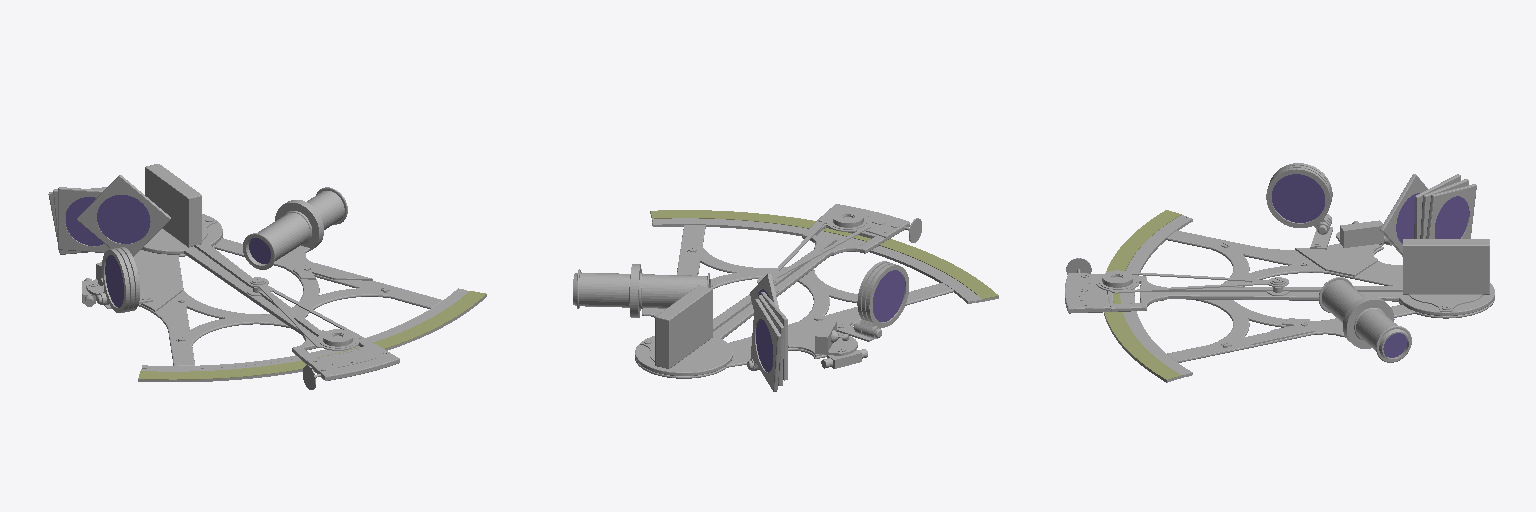
Rendered from sextant.obj.
The picture shows the model from 3 angles: view 1: azimuth 30°, elevation 25°; view 2: azimuth 150°, elevation 25°; view 3: azimuth 270°, elevation 25°; orthographic projection.
Parts seen in each view (by area): view 1: eness3d_02, eness3d_03, eness3d_01, eness3d_05, Object01, eness3d_12, eness3d_13, eness3d_06, Object04, eness3d_07, Object03, eness3d_04; view 2: eness3d_03, eness3d_02, eness3d_01, eness3d_05, Object03, eness3d_07, eness3d_13, eness3d_06, Object07; view 3: eness3d_02, eness3d_03, eness3d_01, eness3d_05, eness3d_13, Object10, eness3d_06, Object07, eness3d_07, eness3d_12, Object08.
Part boxes in pixels (x1,y1,x2,y2): eness3d_02: (48,187,442,365); eness3d_03: (84,164,463,389); eness3d_01: (141,214,373,363); eness3d_05: (138,291,486,379); Object01: (97,195,150,243); eness3d_12: (77,175,170,256); eness3d_13: (139,263,372,311); eness3d_06: (307,344,399,380); Object04: (66,197,104,245); eness3d_07: (141,290,468,371); Object03: (105,255,123,307); eness3d_04: (138,295,486,381); eness3d_03: (573,210,974,369); eness3d_02: (630,225,953,391); eness3d_01: (635,221,885,375); eness3d_05: (650,210,998,298); Object03: (873,270,904,321); eness3d_07: (652,218,981,302); eness3d_13: (677,258,852,356); eness3d_06: (817,204,909,240); Object07: (756,319,773,372); eness3d_02: (1166,163,1494,362); eness3d_03: (1066,217,1489,376); eness3d_01: (1107,276,1494,315); eness3d_05: (1104,210,1181,379); eness3d_13: (1251,243,1381,344); Object10: (1272,174,1324,222); eness3d_06: (1065,273,1110,313); Object07: (1435,196,1468,238); eness3d_07: (1120,215,1186,377); eness3d_12: (1380,174,1427,256); Object08: (1396,193,1419,243).
Bounding box in the file's own units: 1.64 × 0.4337 × 1.75.